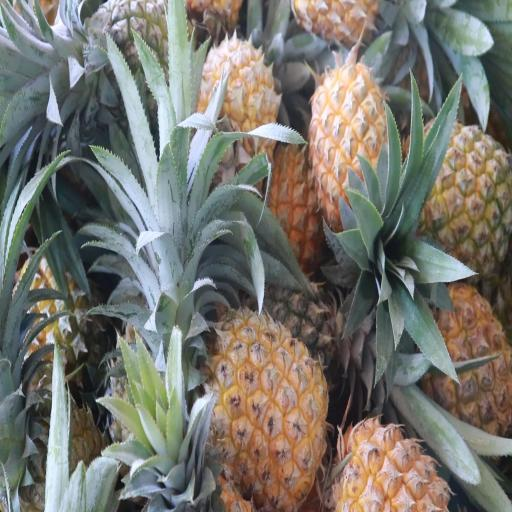Pineapple - v8 v1: (212, 301, 326, 507), (309, 61, 397, 232), (419, 114, 512, 274), (419, 279, 512, 433), (327, 408, 452, 512), (198, 40, 275, 168)
